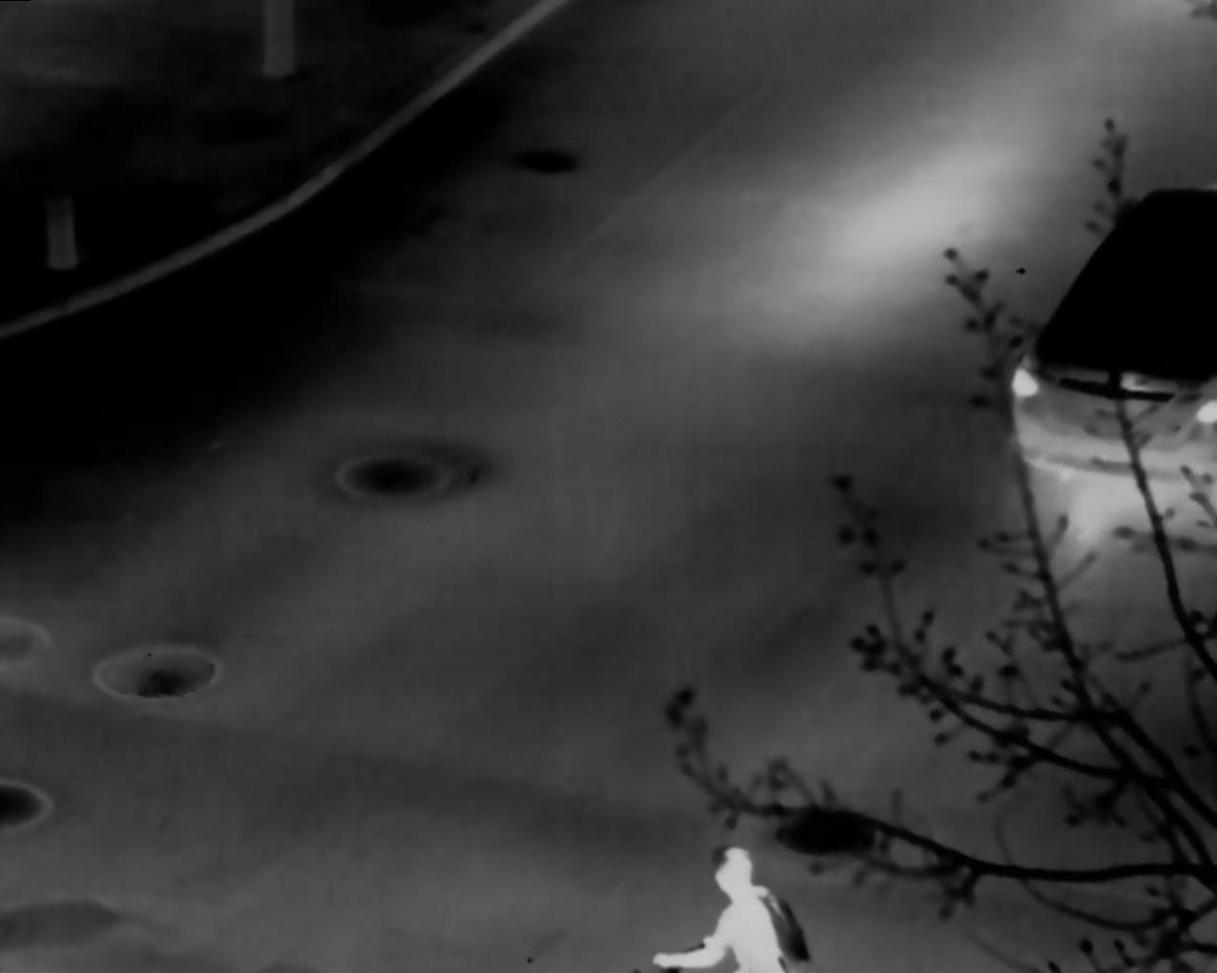person: (666, 843, 788, 973)
